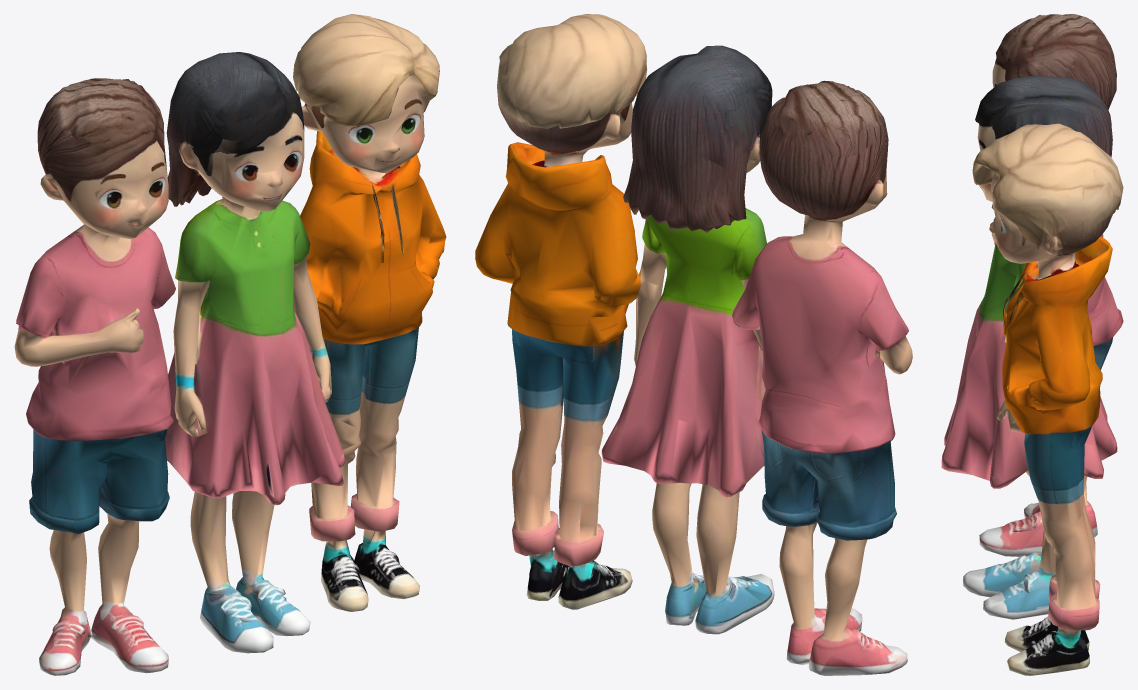
File: crowd.glb
3 views of the same model, side by side, from view 1: azimuth 30°, elevation 25°; view 2: azimuth 150°, elevation 25°; view 3: azimuth 270°, elevation 25° (orthographic). The views are drawn at different scales.
Bounding box in the file's own units: 1.5 × 1.9 × 0.598.
1 material, 1 textured.
